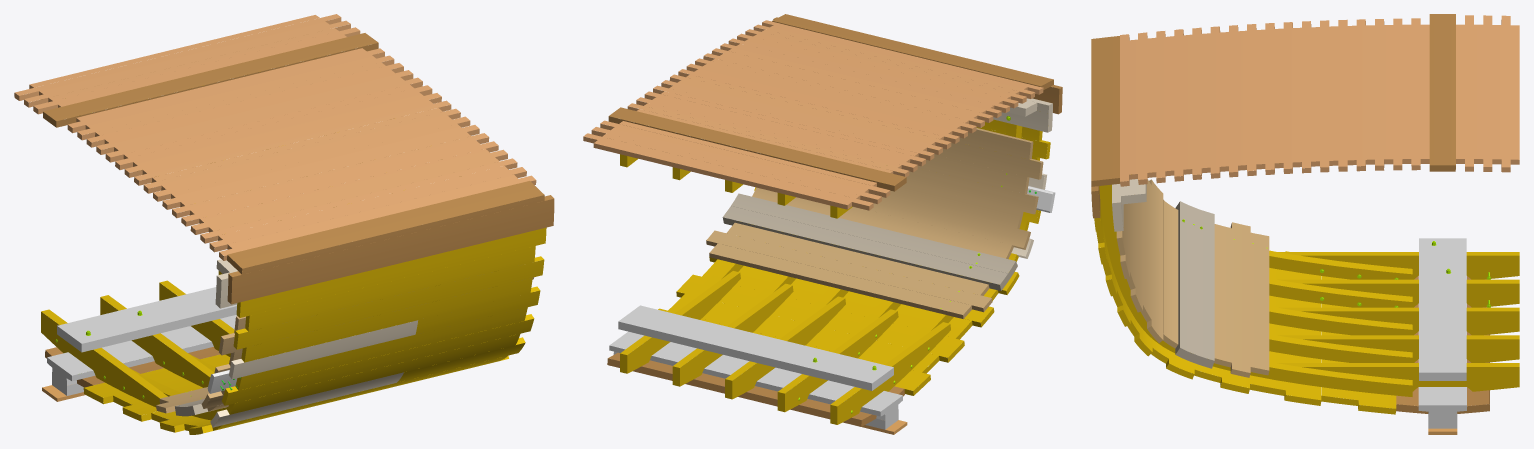
The model's file is Hull.glb.
3 renders of one model, left to right at view 1: azimuth 30°, elevation 25°; view 2: azimuth 150°, elevation 25°; view 3: azimuth 270°, elevation 25°, orthographic. The views are drawn at different scales.
Parts seen in each view (by area): view 1: Decking, Planking, Sheer Strake, Covering Board, Floor, Keelson, King Plank, Keel / Backbone, Ceiling, Garboard Strake, Frames; view 2: Decking, Ceiling, Planking, Floor, Bilge Stringer, Keelson, Keel / Backbone, King Plank, Covering Board, Frames, Garboard Strake, Sheer Clamp (+3 smaller); view 3: Decking, Ceiling, Floor, Frames, Planking, Keelson, Bilge Stringer, Covering Board, King Plank, Keel / Backbone, Garboard Strake, Beam Shelf (+1 smaller).
Part boxes in pixels (x1=…): Decking: x1=14, y1=14, x2=536, y2=260; Planking: x1=83, y1=227, x2=546, y2=434; Sheer Strake: x1=227, y1=195, x2=554, y2=304; Covering Board: x1=227, y1=181, x2=544, y2=274; Floor: x1=41, y1=271, x2=234, y2=407; Keelson: x1=57, y1=287, x2=236, y2=352; King Plank: x1=43, y1=33, x2=378, y2=127; Keel / Backbone: x1=42, y1=315, x2=237, y2=401; Ceiling: x1=156, y1=277, x2=533, y2=413; Garboard Strake: x1=45, y1=347, x2=219, y2=387; Frames: x1=130, y1=354, x2=227, y2=420; Decking: x1=583, y1=20, x2=1043, y2=210; Ceiling: x1=706, y1=128, x2=1043, y2=318; Planking: x1=658, y1=119, x2=1050, y2=395; Floor: x1=620, y1=271, x2=950, y2=424; Bilge Stringer: x1=722, y1=193, x2=1017, y2=290; Keelson: x1=618, y1=305, x2=893, y2=390; Keel / Backbone: x1=609, y1=331, x2=907, y2=434; King Plank: x1=608, y1=107, x2=906, y2=191; Covering Board: x1=772, y1=14, x2=1053, y2=89; Frames: x1=674, y1=123, x2=1022, y2=364; Garboard Strake: x1=607, y1=352, x2=904, y2=426; Sheer Clamp: x1=993, y1=98, x2=1052, y2=132; Decking: x1=1120, y1=15, x2=1519, y2=186; Ceiling: x1=1116, y1=179, x2=1269, y2=377; Floor: x1=1277, y1=252, x2=1519, y2=391; Frames: x1=1099, y1=184, x2=1412, y2=396; Planking: x1=1094, y1=204, x2=1396, y2=414; Keelson: x1=1419, y1=238, x2=1466, y2=380; Bilge Stringer: x1=1175, y1=201, x2=1214, y2=368; Covering Board: x1=1091, y1=36, x2=1120, y2=186; King Plank: x1=1429, y1=14, x2=1455, y2=171; Keel / Backbone: x1=1418, y1=276, x2=1466, y2=434; Garboard Strake: x1=1396, y1=276, x2=1489, y2=413; Beam Shelf: x1=1121, y1=179, x2=1146, y2=204.
Size of the model in its own units: 6.38 by 5.17 by 7.45.
